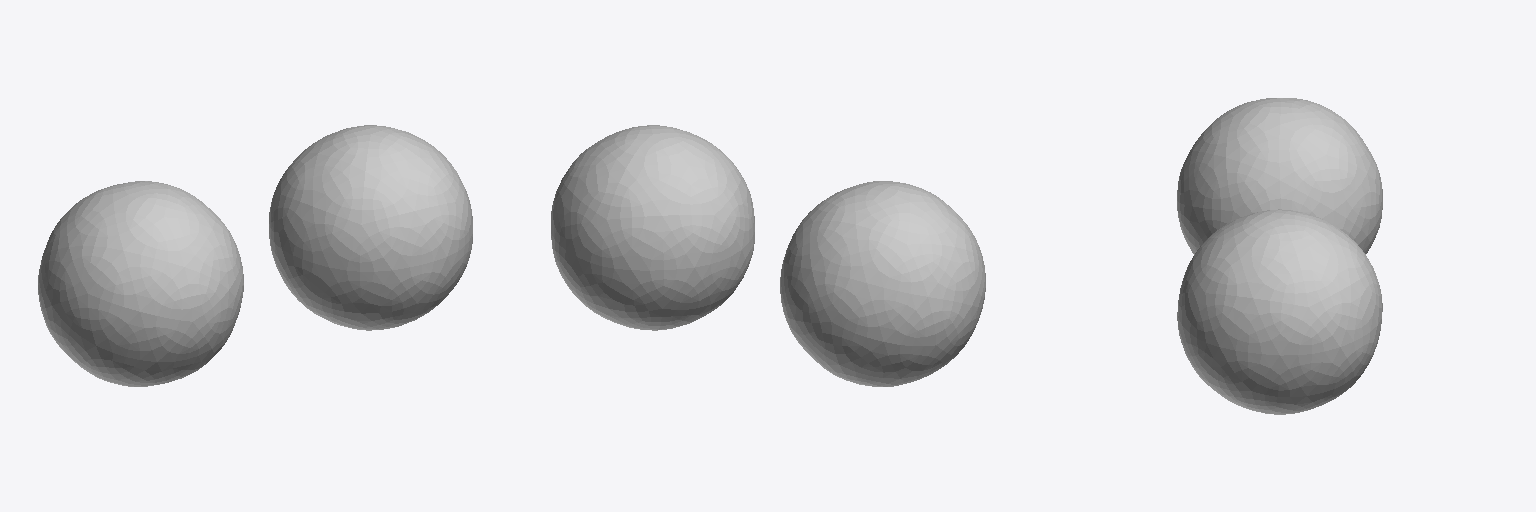
File: dwie_sfery_ss.obj
3 views of the same model, side by side, from view 1: azimuth 30°, elevation 25°; view 2: azimuth 150°, elevation 25°; view 3: azimuth 270°, elevation 25° (orthographic).
Parts seen in each view (by area): view 1: Icosphere; view 2: Icosphere; view 3: Icosphere.
Boxes of the visible parts, box(x1,y1,x2,y2) form: Icosphere: box(38, 125, 472, 386); Icosphere: box(551, 125, 985, 386); Icosphere: box(1177, 98, 1382, 414).
Size of the model in its own units: 4.24 by 1.86 by 1.86.